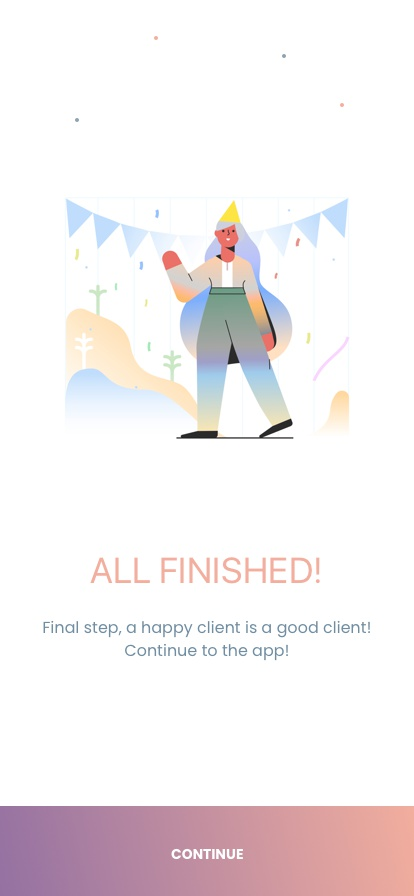Image: (65, 197, 350, 440)
Text: (43, 620, 371, 661), (90, 557, 321, 585)
TextButton: (1, 806, 414, 896)
